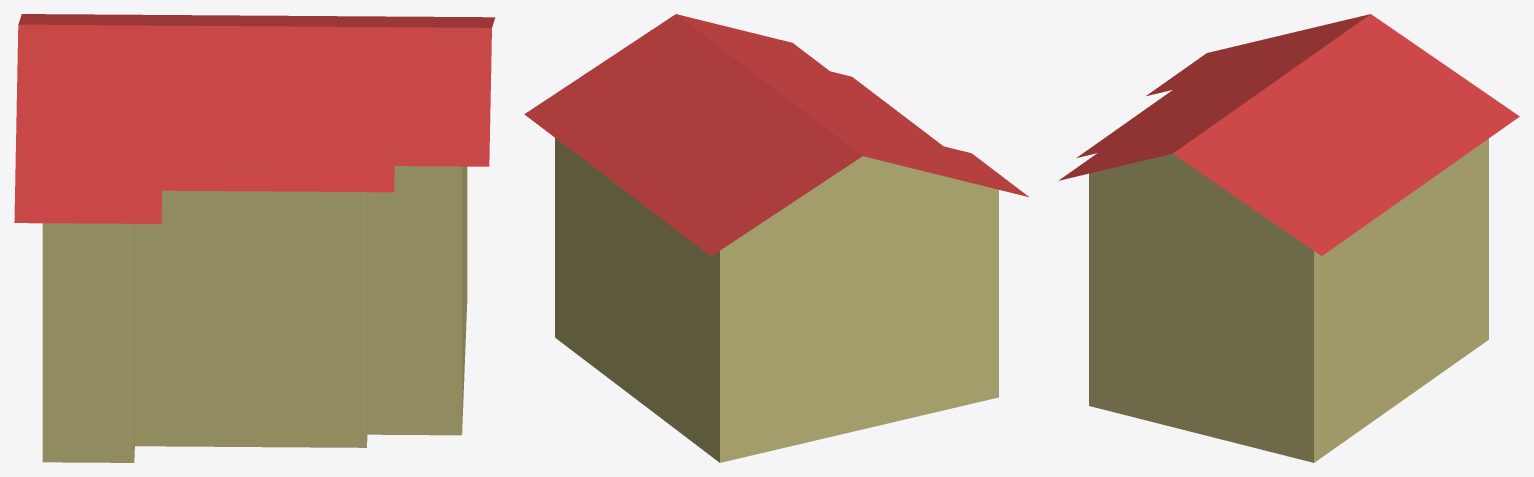
The picture shows the model from 3 angles, left to right: view 1: azimuth 30°, elevation 25°; view 2: azimuth 150°, elevation 25°; view 3: azimuth 270°, elevation 25°; orthographic projection. The views are drawn at different scales.
Visible parts, largest first — view 1: group_5, group_3, group_4; view 2: group_5, group_3, group_4; view 3: group_5, group_3, group_4.
Part boxes in pixels (<box>): group_5: <box>42,166,467,462</box>; group_3: <box>14,14,495,223</box>; group_4: <box>14,21,491,222</box>; group_5: <box>555,138,998,462</box>; group_3: <box>524,14,1028,256</box>; group_4: <box>588,14,1028,196</box>; group_5: <box>1089,138,1488,462</box>; group_3: <box>1058,14,1519,255</box>; group_4: <box>1173,14,1370,211</box>.
Bounding box in the file's own units: 22.97 × 20.48 × 13.92.
